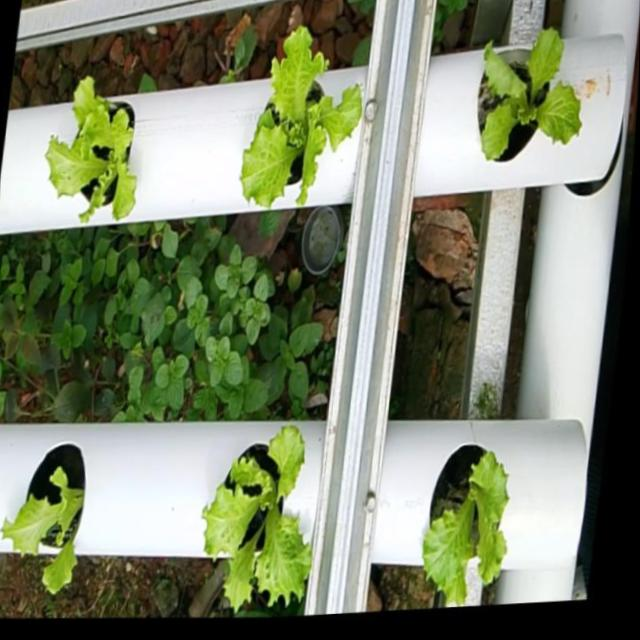Baby: (239, 28, 361, 211), (202, 427, 311, 616), (476, 28, 581, 164), (422, 445, 508, 606), (44, 78, 135, 225), (1, 444, 84, 594)
